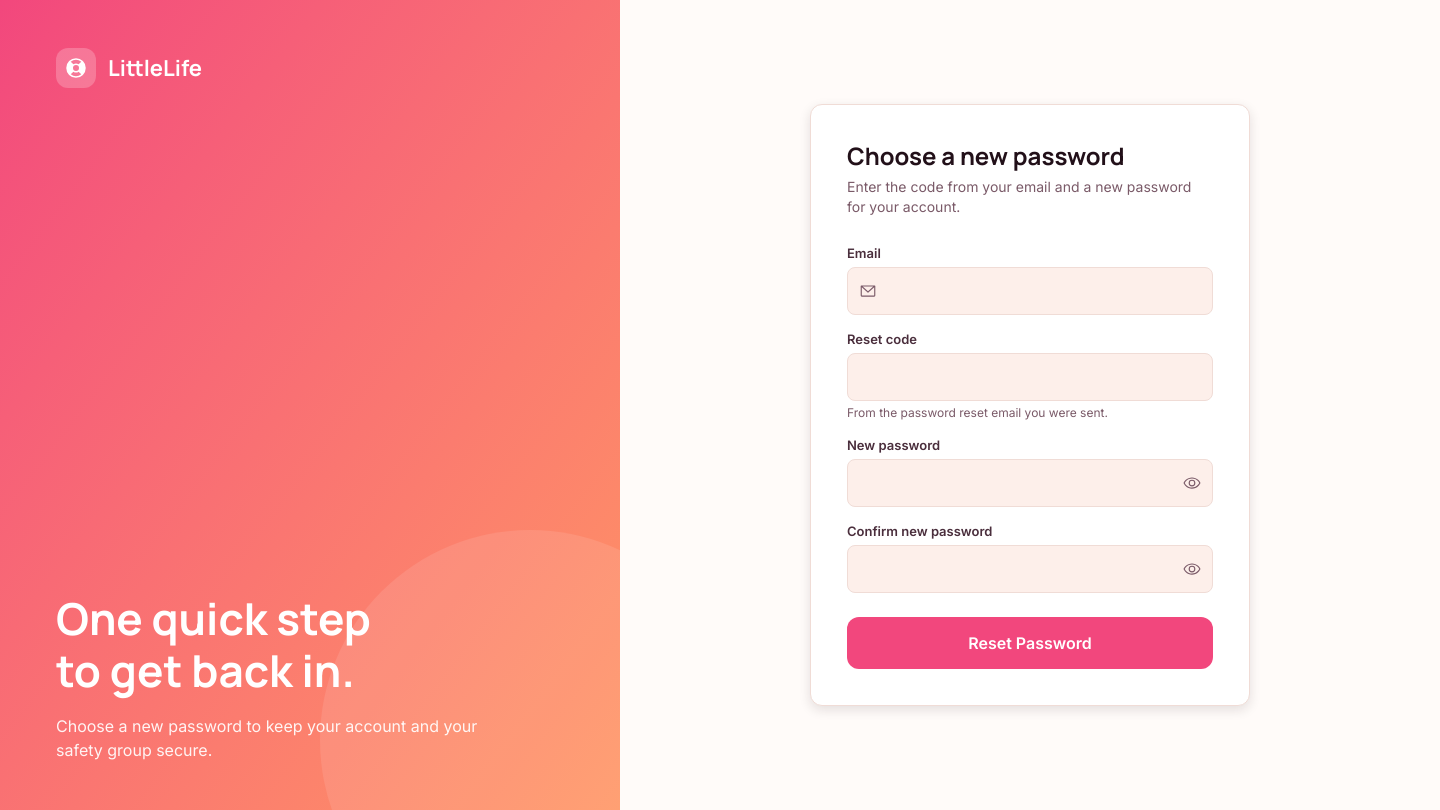
Test case: ResetPasswordPage › shows the real backend error for an expired/invalid token and stays on the screen
Type "citizen@example.com" into the field labelled "Email".
click(1030, 291); type("citizen@example.com")  # box [847, 267, 1213, 315]
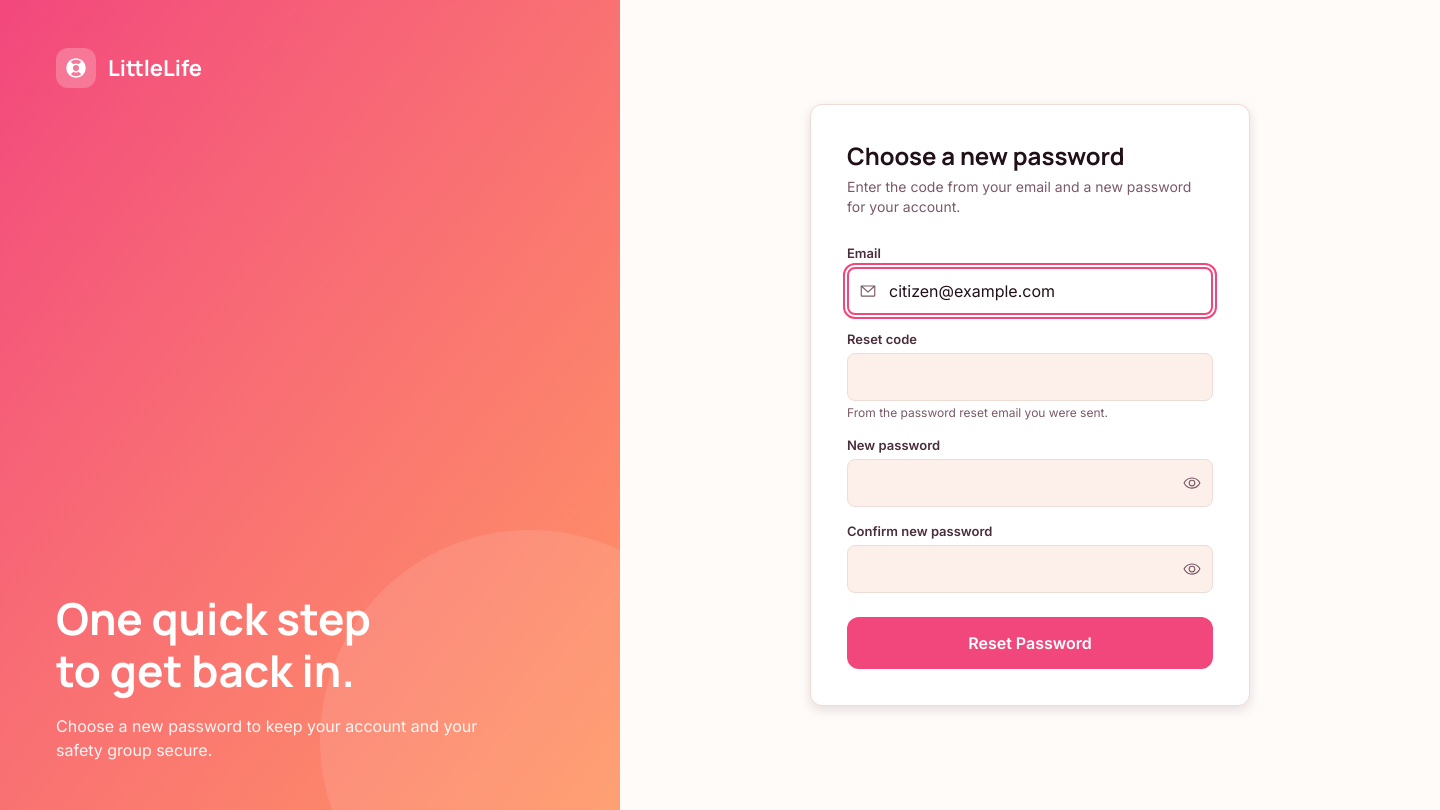
Type "expired" into the field labelled "Reset code".
click(1030, 377); type("expired")  # box [847, 353, 1213, 401]
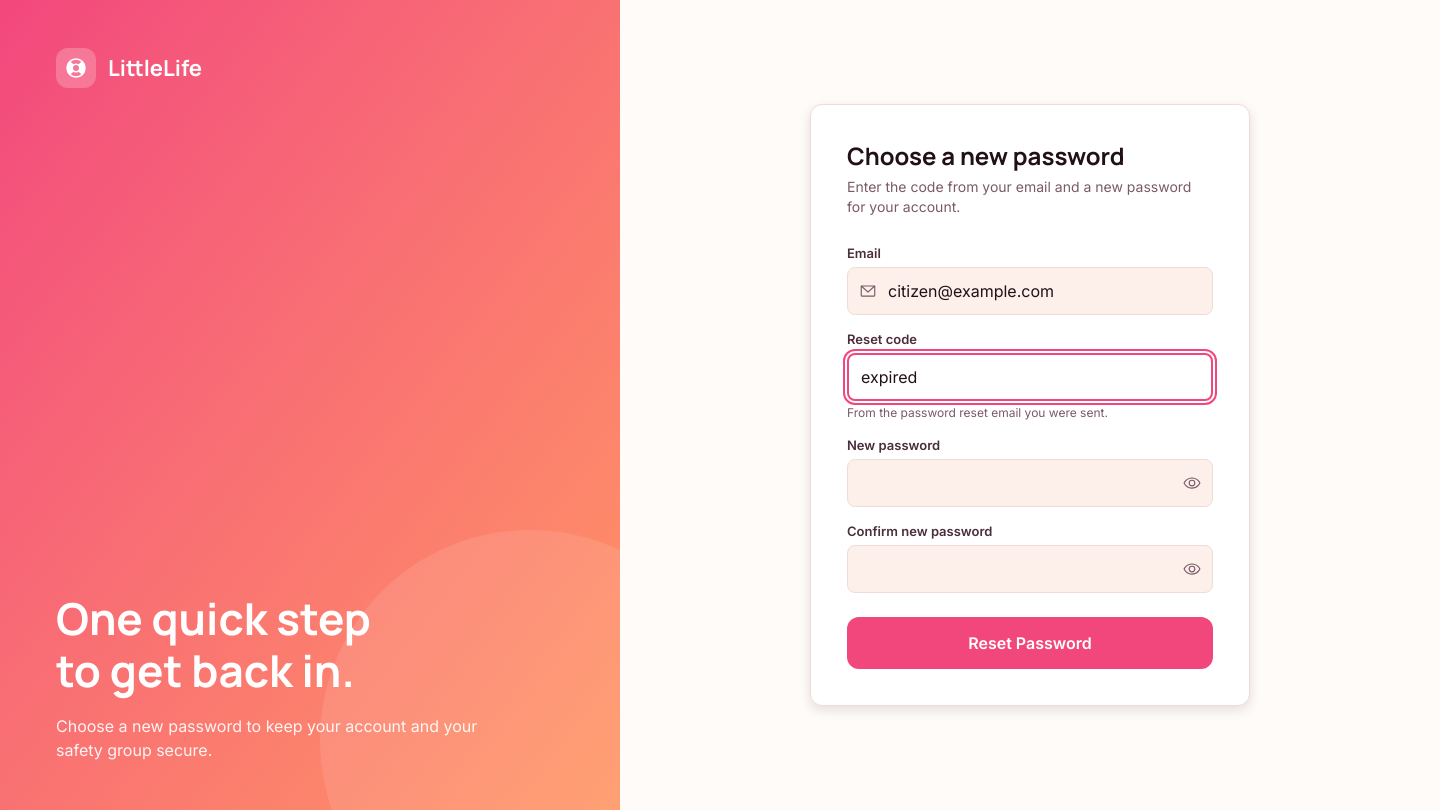
Type "correct-password" into the password field labelled "New password".
click(1030, 483); type("correct-password")  # box [847, 459, 1213, 507]
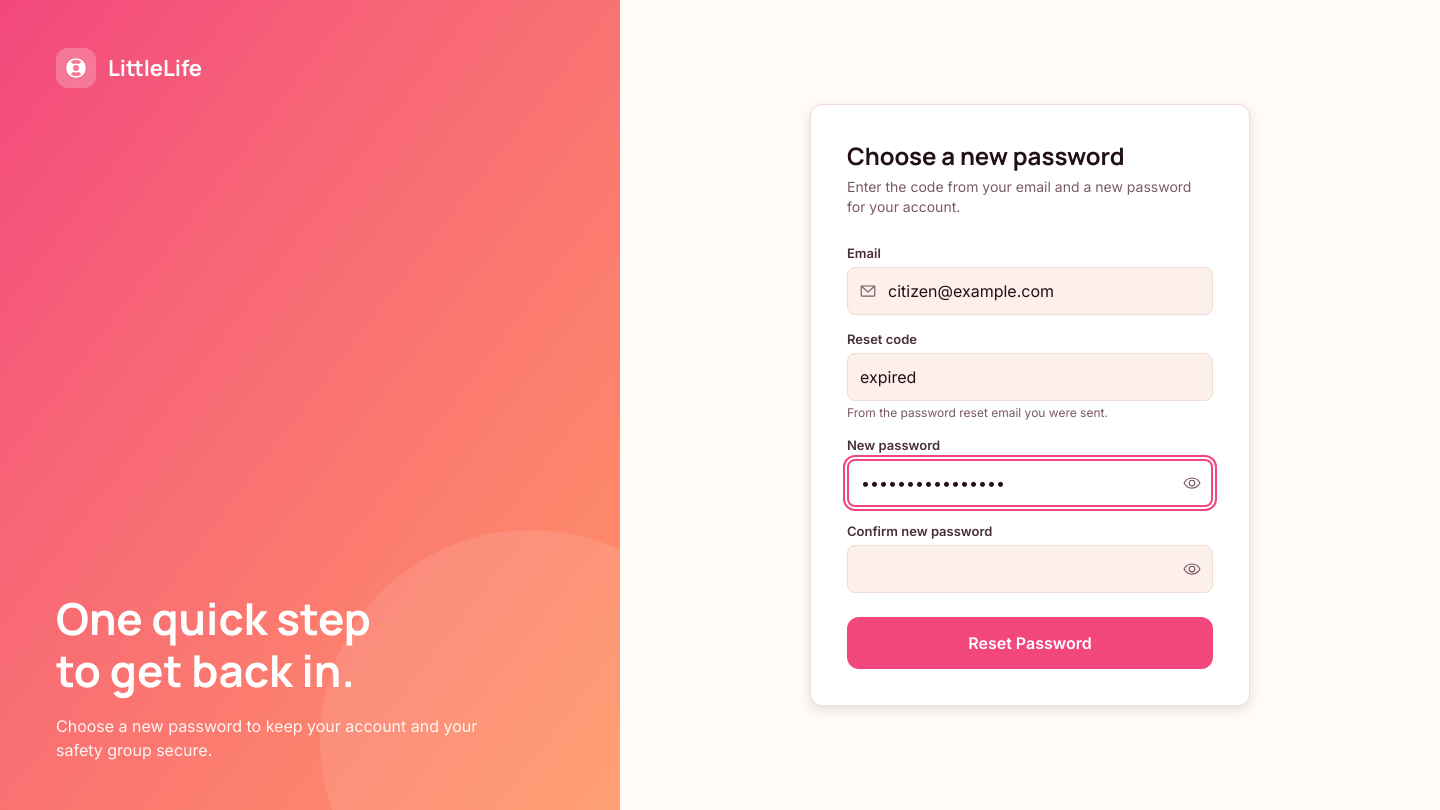
Type "correct-password" into the password field labelled "Confirm new password".
click(1030, 569); type("correct-password")  # box [847, 545, 1213, 593]
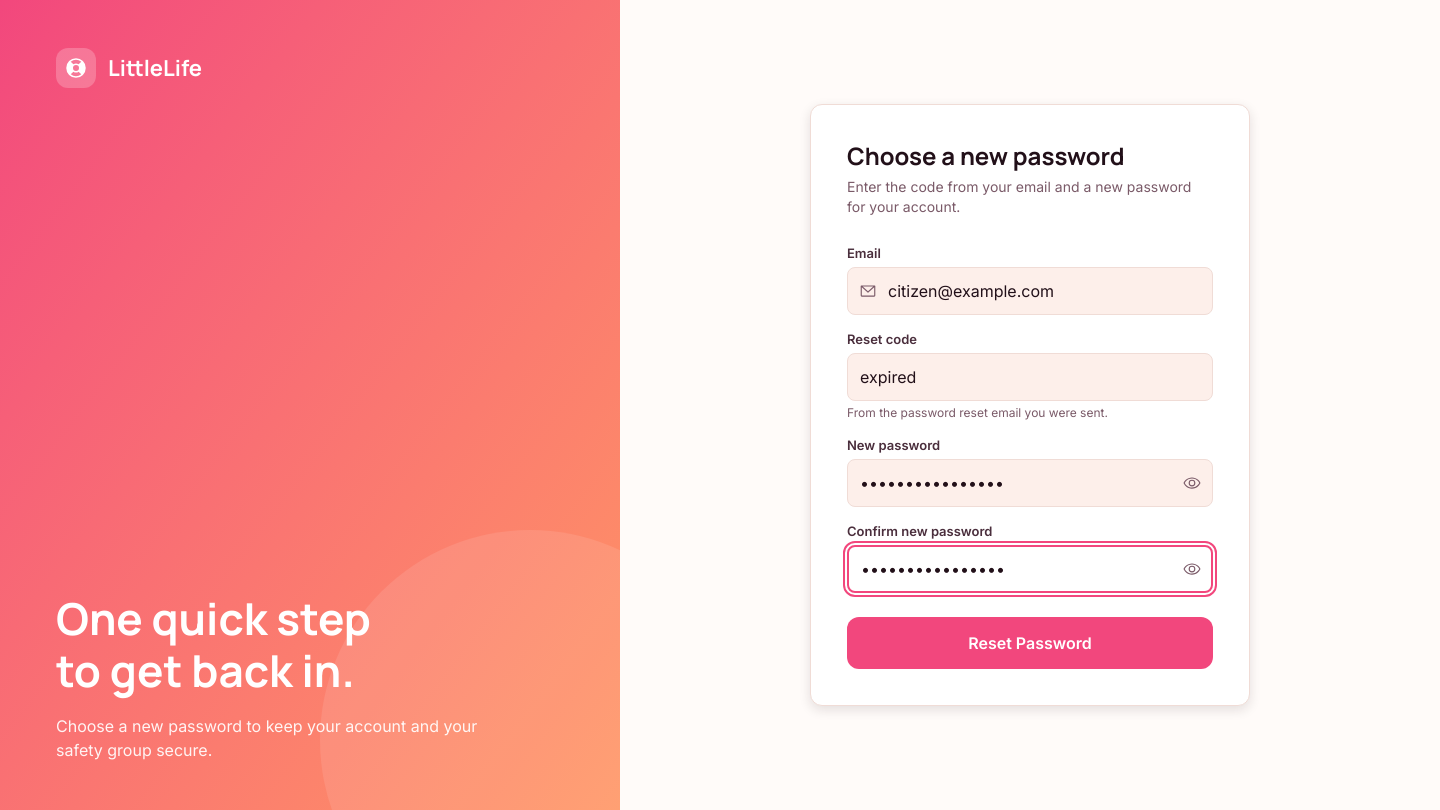
Click the button named "Reset Password".
click(1030, 643)  # box [847, 617, 1213, 669]
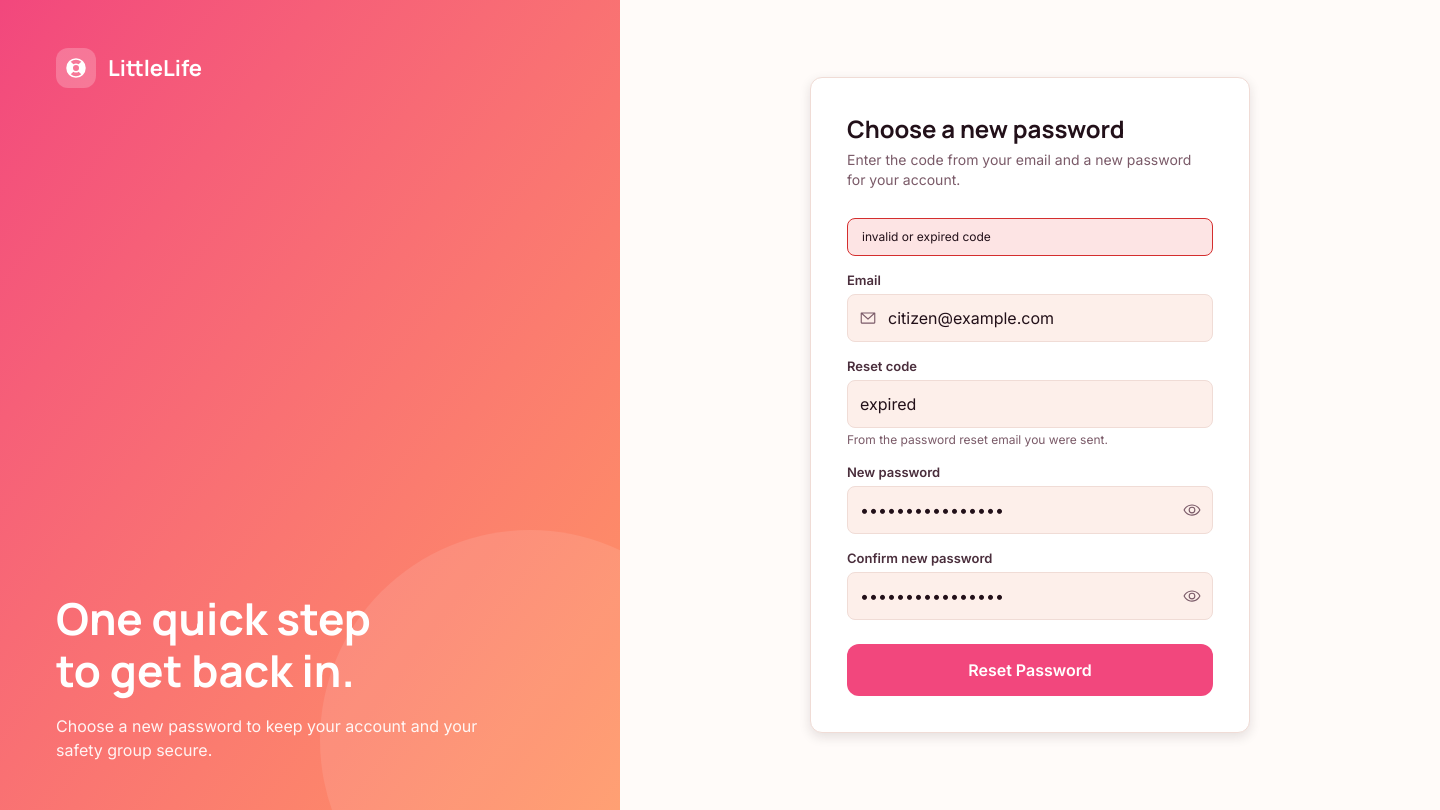
expect the message reads "invalid or expired code": met, box [862, 229, 991, 244]
